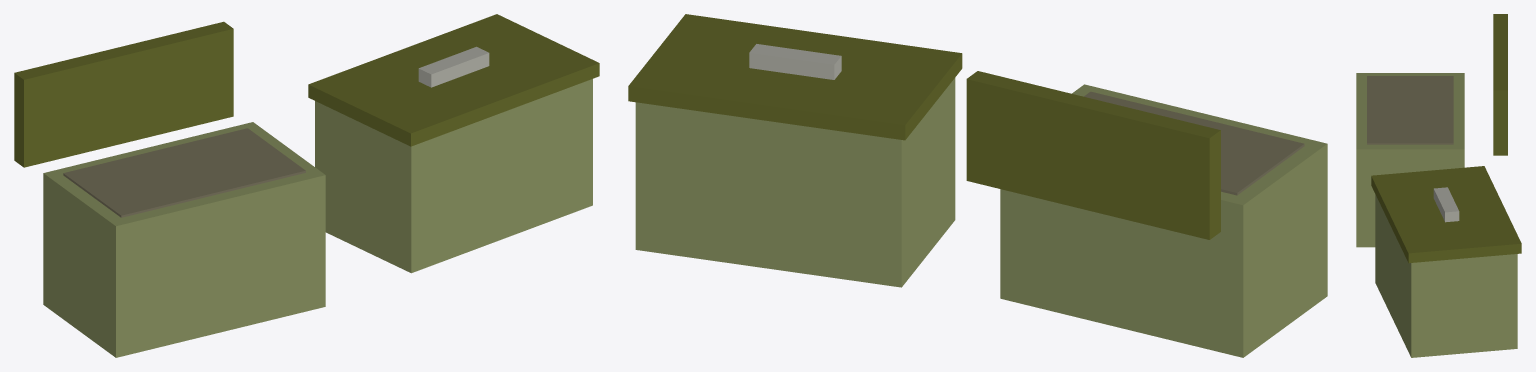
The model's file is SM_CajasMunicion_v1_Abierta_LOD0.fbx.
3 renders of one model, left to right at view 1: azimuth 30°, elevation 25°; view 2: azimuth 150°, elevation 25°; view 3: azimuth 270°, elevation 25°, orthographic. The views are drawn at different scales.
Visible parts, largest first — view 1: SM_farp_betera_v21_LOD0; view 2: SM_farp_betera_v21_LOD0; view 3: SM_farp_betera_v21_LOD0.
Part boxes in pixels (box(x1,y1,x2,y2)): SM_farp_betera_v21_LOD0: box(14, 14, 599, 357); SM_farp_betera_v21_LOD0: box(628, 14, 1327, 357); SM_farp_betera_v21_LOD0: box(1356, 14, 1521, 357).
Size of the model in its own units: 1.24 by 0.48 by 0.4585.
